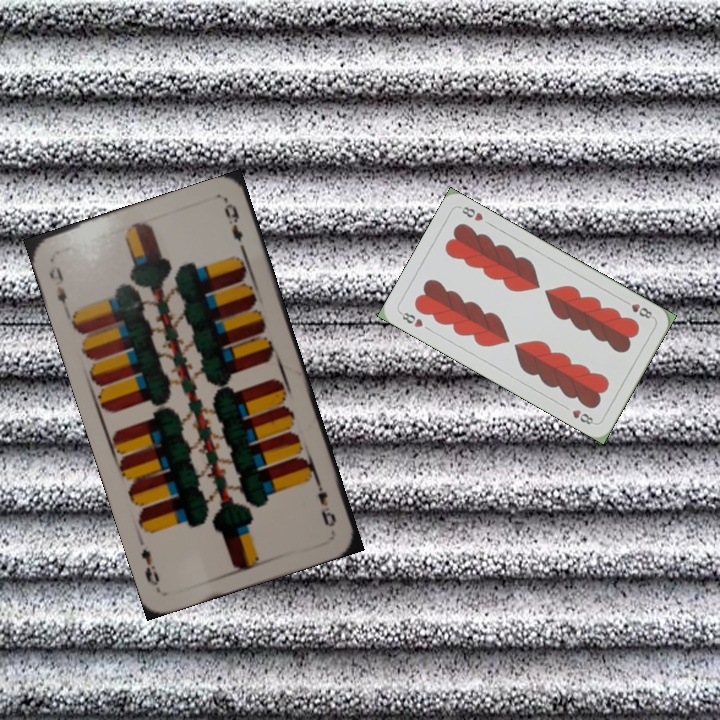E9: (311, 475, 339, 530), (44, 261, 71, 314)
H8: (619, 296, 657, 321), (396, 308, 426, 330)
